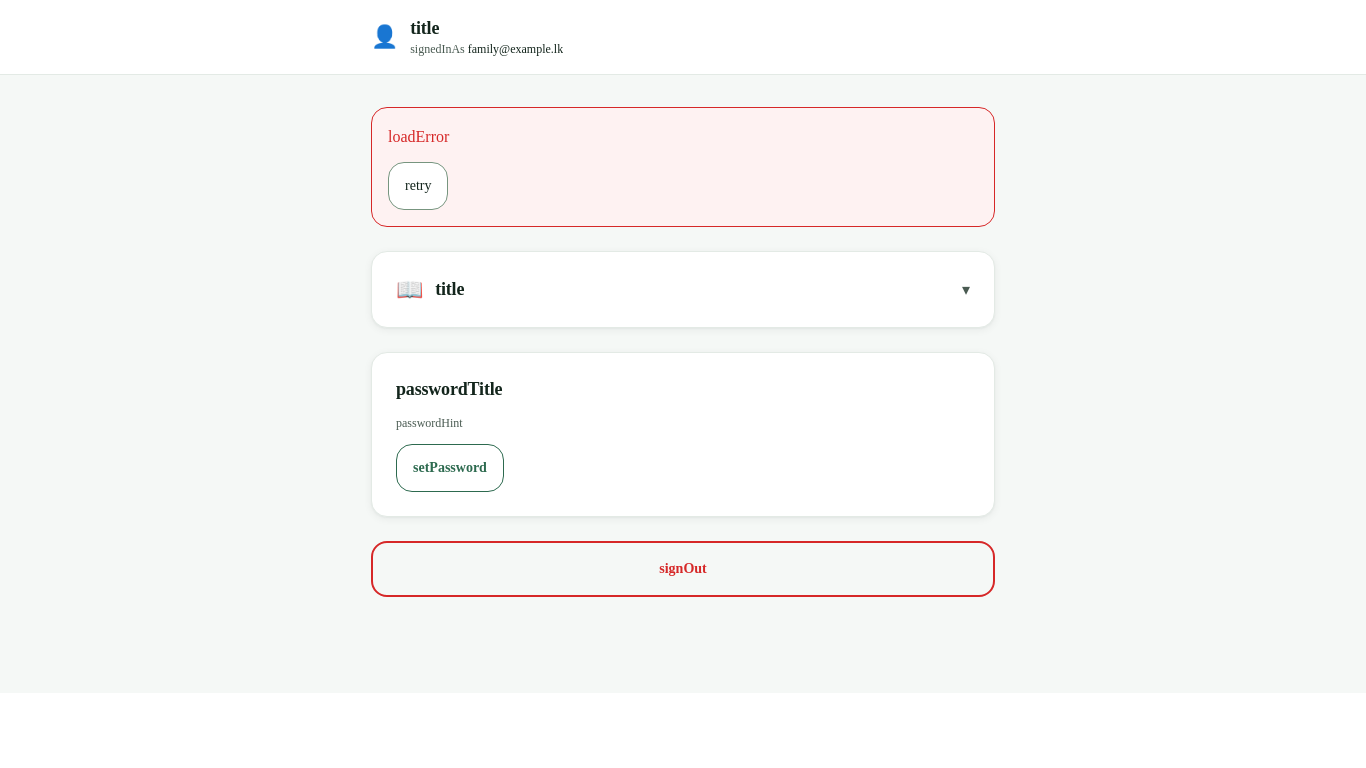
Test case: offers retry, not registration, when the profile could not be loaded
The width and height of the screenshot is (1366, 768).
Check: the text "loadError" is shown, box top-left (388, 128), bottom-right (449, 145)
Click the button "retry" at (418, 186), box top-left (388, 162), bottom-right (448, 210)
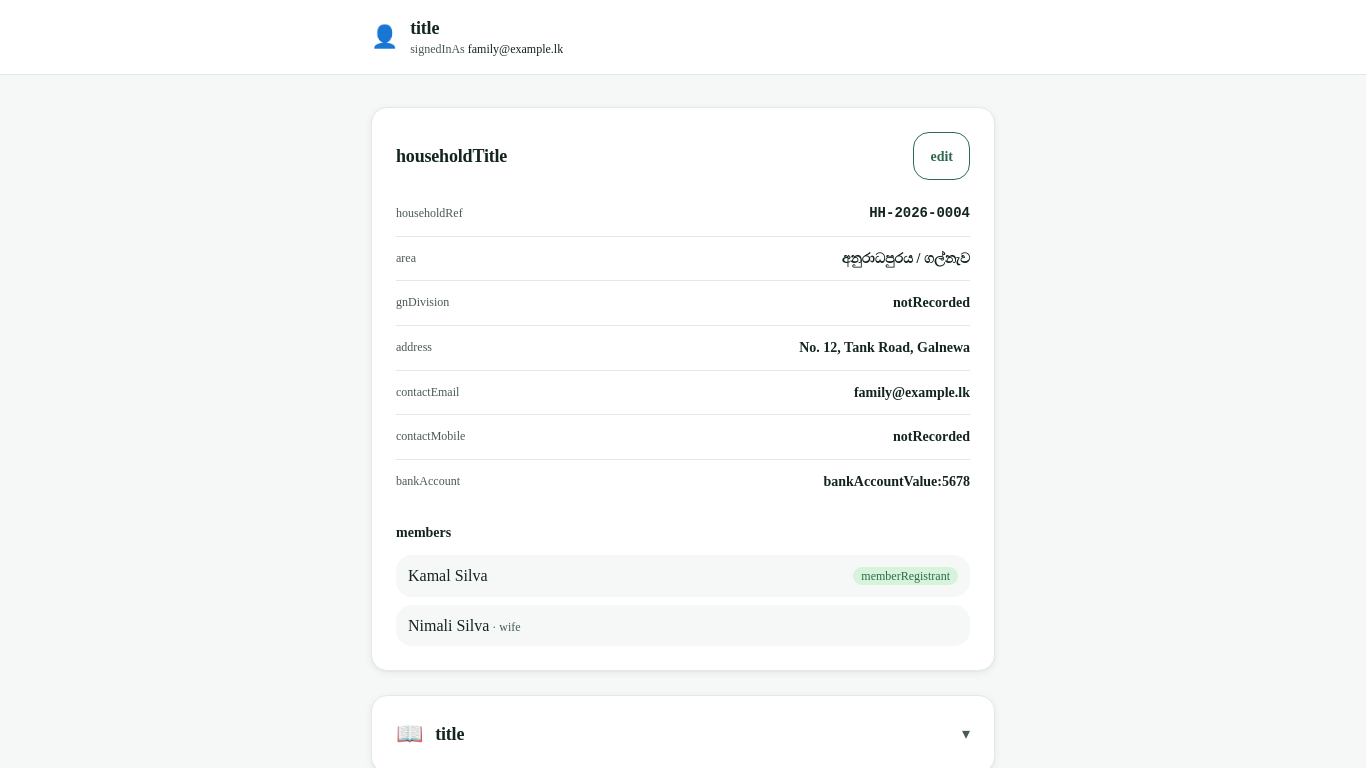
Check: the element with test id "profile-household" is shown, box top-left (371, 107), bottom-right (995, 671)
